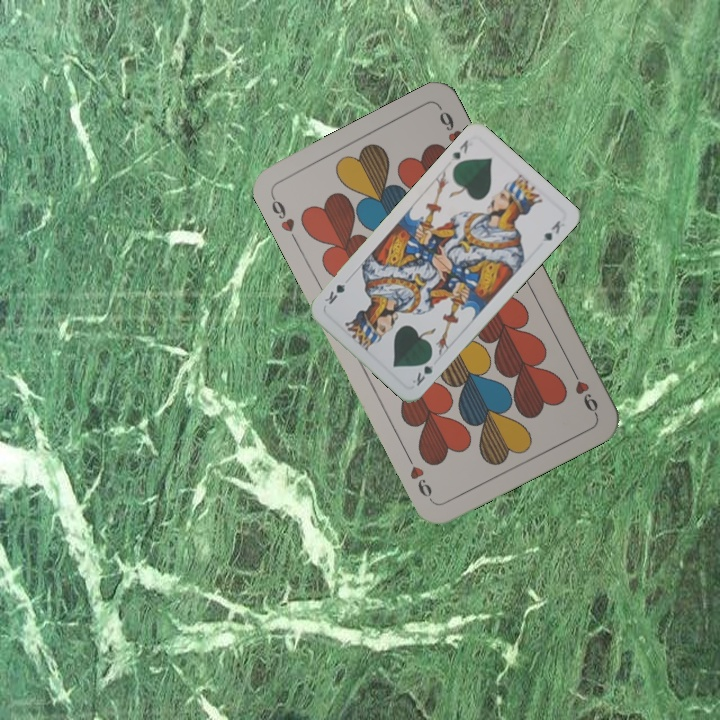GK: (408, 352, 436, 389), (447, 135, 471, 163)
H9: (566, 363, 601, 418), (267, 191, 301, 246)
